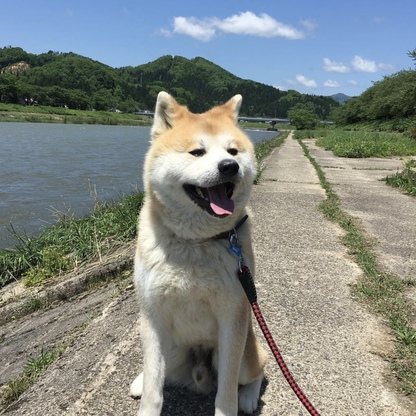akita: (122, 84, 275, 416)
